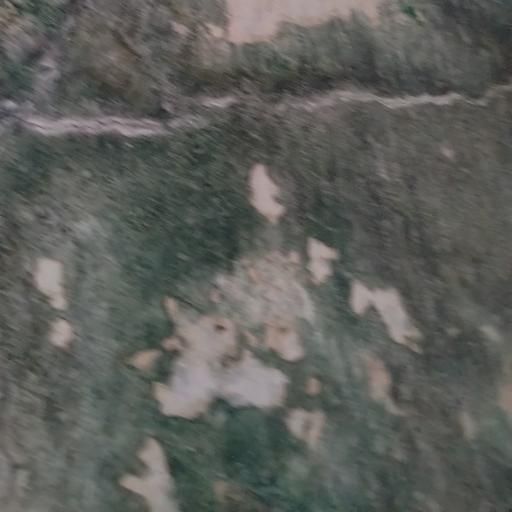algae: (0, 1, 512, 508)
